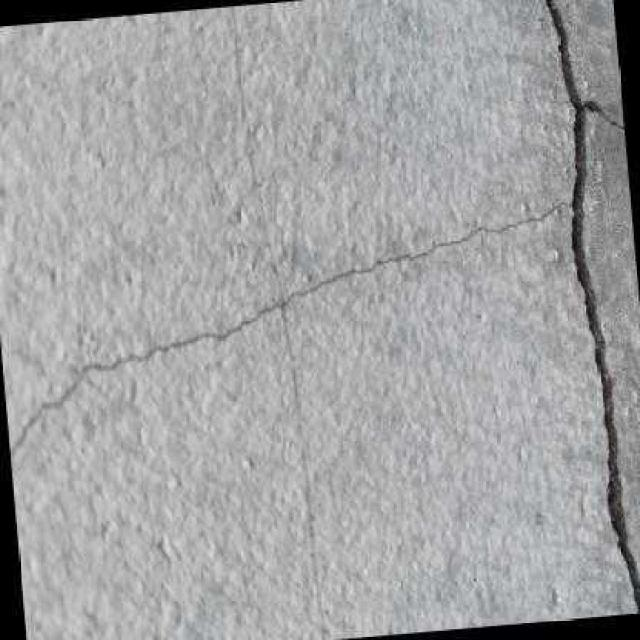D00: (547, 0, 640, 614)
